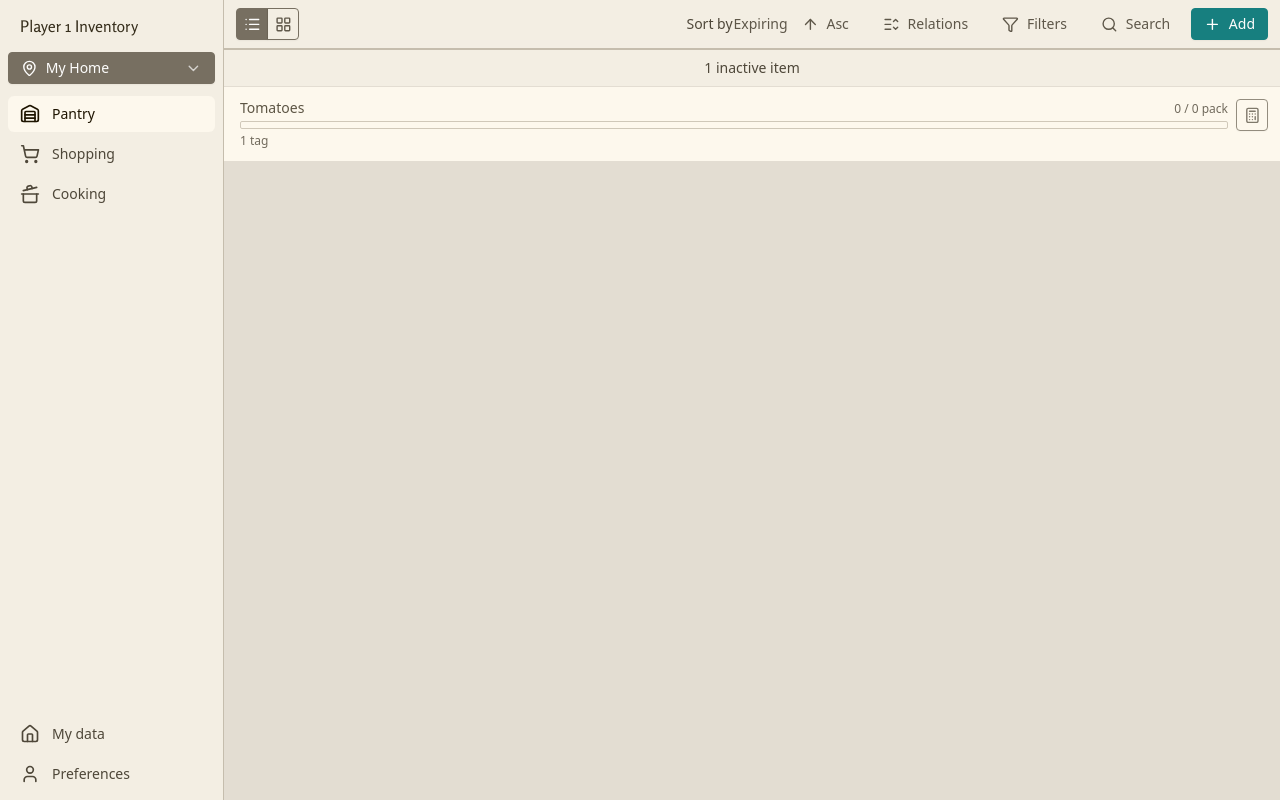
Test case: Home page filtering integration › user can toggle filters visibility
The width and height of the screenshot is (1280, 800).
Check: the heading "Tomatoes" is shown, box [240,99,304,116]
Check: the button "category" is not shown
Click filter button to show
Click the button with aria-label "toggle filters".
click(1035, 24)  # box [989,8,1080,40]
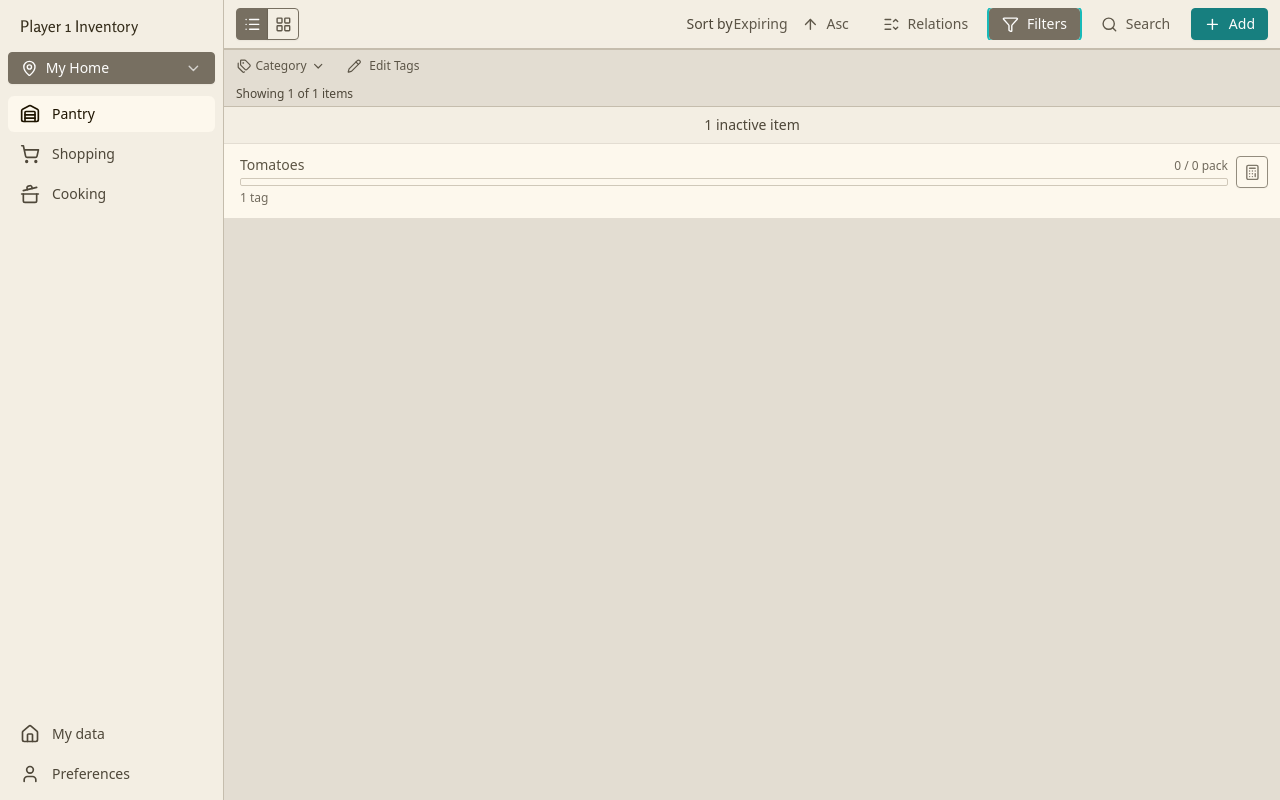
Check: the button "Category" is shown, box [228,54,334,78]
